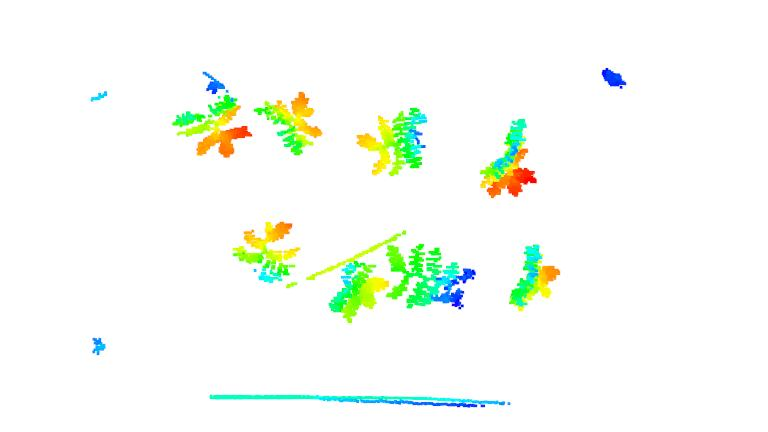chickpea: (388, 243, 477, 316), (173, 93, 252, 163), (356, 104, 429, 178), (478, 115, 537, 199), (253, 91, 325, 155), (231, 220, 299, 286), (504, 242, 562, 312), (330, 258, 390, 325)
